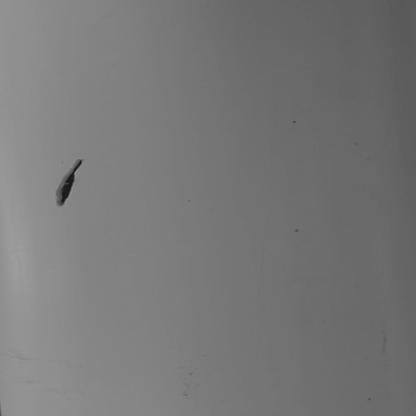kongdong: (54, 158, 86, 208)
